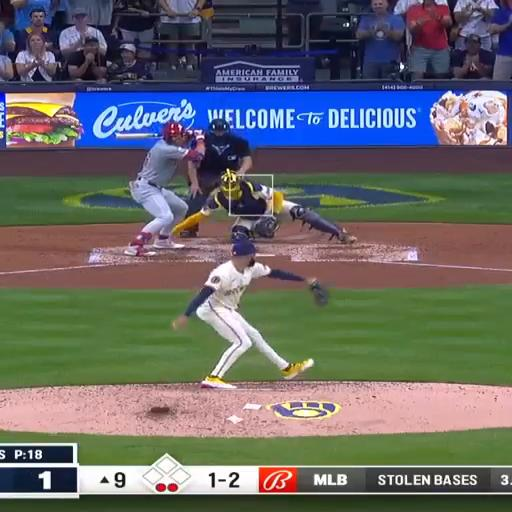bat: (115, 133, 161, 140)
